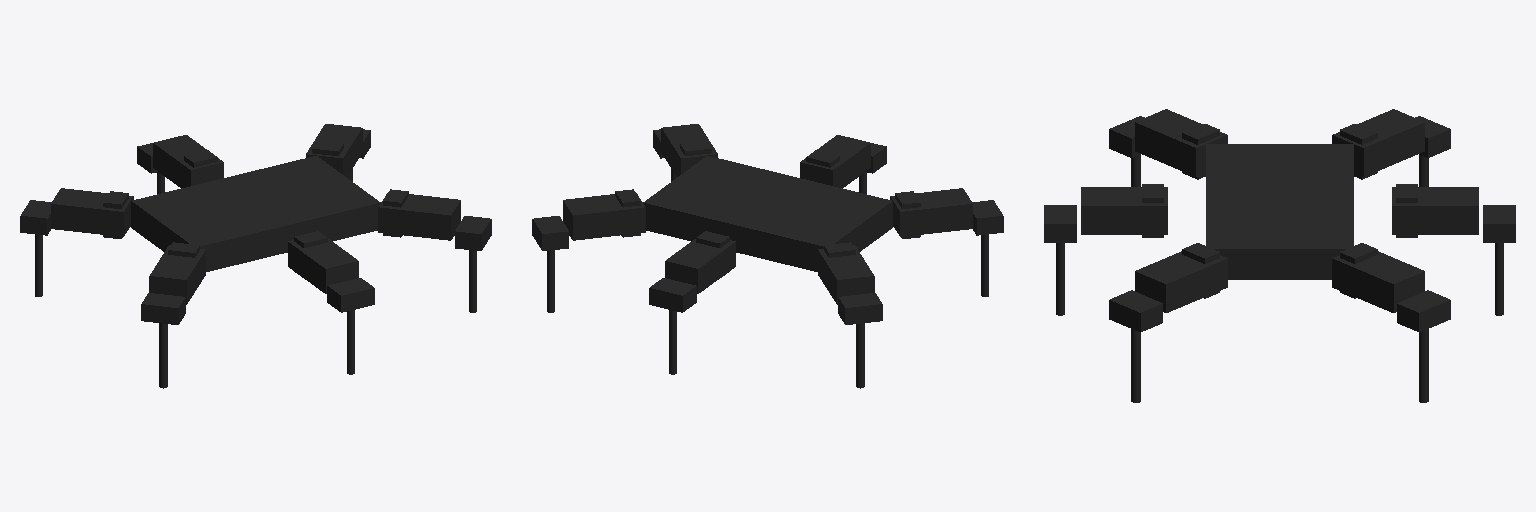
--- Facts derived from the render (not from the file) ---
Views: 3 orthographic renders of the robot side by side, from view 1: azimuth 30°, elevation 25°; view 2: azimuth 150°, elevation 25°; view 3: azimuth 270°, elevation 25°.
Robot: Simple_Hexapod — 37 links, 36 joints (18 revolute, 18 fixed); root link base_link; default pose: all joints at 0.
Visible links, largest first — view 1: MP_BODY, thigh_rf, thigh_lr, thigh_rm, thigh_lm, thigh_rr, thigh_lf, tibia_rm, tibia_rr, tibia_rf, tibia_lr, tibia_ext_rr; view 2: MP_BODY, thigh_rr, thigh_lf, thigh_rm, thigh_lm, thigh_lr, thigh_rf, tibia_lm, tibia_lr, tibia_lf, tibia_rr, tibia_ext_lr; view 3: MP_BODY, thigh_lm, thigh_lf, thigh_lr, thigh_rf, thigh_rm, thigh_rr, tibia_rf, tibia_lf, tibia_rm, tibia_lm, tibia_rr (+10 smaller).
Link boxes in pixels (x1,y1,x2,y2): MP_BODY: (131, 156, 380, 271); thigh_rf: (378, 193, 460, 240); thigh_lr: (51, 188, 133, 236); thigh_rm: (288, 239, 358, 293); thigh_lm: (153, 135, 223, 186); thigh_rr: (149, 245, 205, 304); thigh_lf: (306, 124, 362, 176); tibia_rm: (327, 278, 374, 312); tibia_rr: (141, 293, 185, 324); tibia_rf: (455, 216, 491, 250); tibia_lr: (20, 200, 51, 235); tibia_ext_rr: (159, 323, 167, 388); MP_BODY: (643, 156, 892, 271); thigh_rr: (890, 188, 972, 236); thigh_lf: (563, 193, 645, 240); thigh_rm: (800, 135, 870, 188); thigh_lm: (665, 240, 735, 293); thigh_lr: (818, 245, 874, 304); thigh_rf: (661, 124, 717, 175); tibia_lm: (649, 278, 696, 312); tibia_lr: (838, 293, 882, 324); tibia_lf: (532, 216, 568, 250); tibia_rr: (972, 200, 1003, 235); tibia_ext_lr: (856, 323, 864, 388); MP_BODY: (1206, 144, 1353, 279); thigh_lm: (1392, 187, 1478, 234); thigh_lf: (1332, 251, 1424, 312); thigh_lr: (1332, 109, 1424, 176); thigh_rf: (1135, 254, 1227, 312); thigh_rm: (1081, 187, 1167, 234); thigh_rr: (1135, 109, 1227, 176); tibia_rf: (1109, 290, 1162, 332); tibia_lf: (1397, 290, 1450, 332); tibia_rm: (1044, 205, 1076, 242); tibia_lm: (1483, 205, 1515, 242); tibia_rr: (1109, 116, 1144, 157).
Bounding box of the posed robot: 0.472 × 0.4763 × 0.137 m (x, y, z).
0 mesh visuals loaded from 1 distinct referenced files (none loaded); not drawn: 1 (reference not matched to a file when rendering).

URDF robot description (Simple_Hexapod):
<?xml version="1.0" ?>
<!-- =================================================================================== -->
<!-- |    This document was autogenerated by xacro from simple_hexapod.xacro           | -->
<!-- |    EDITING THIS FILE BY HAND IS NOT RECOMMENDED                                 | -->
<!-- =================================================================================== -->
<robot name="Simple_Hexapod" xmlns:xacro="http://www.ros.org/wiki/xacro">
  <!-- Size of square 'camera' box -->
  <link name="base_link"/>
  <joint name="j_simple_hexapod_attachment" type="fixed">
    <parent link="base_link"/>
    <child link="MP_BODY"/>
    <origin rpy="0 0 0" xyz="0 0 0"/>
  </joint>
  <link name="MP_BODY">
    <inertial>
      <origin xyz="0 0 0"/>
      <mass value="0.97559947"/>
      <inertia ixx="3.1081800" ixy="-0.25460189" ixz="2.0318174" iyy="6.3787776" iyz="0.16417863" izz="5.3316425"/>
    </inertial>
    <visual>
      <!--origin xyz="-0.0235 0 -0.03525" rpy="0 0 0" /-->
      <origin rpy="0 0 0" xyz="0 0 0"/>
      <geometry>
        <!--<box size="0.102 0.109 0.106" />-->
        <box size="0.25 0.15 0.035"/>
        <!--<mesh filename="package://simple_hexapod_description/meshes/body.STL"  scale="1 1 1"/>-->
      </geometry>
      <material name="Grey">
        <color rgba="0.20 0.20 0.20 1.0"/>
      </material>
      <!--<material name="Black">
            <color rgba="0 0 0 1.0"/>
          </material>-->
    </visual>
    <collision>
      <origin rpy="0 0 0" xyz="0 0 0"/>
      <geometry>
        <box size="0.25 0.15 0.035"/>
        <!--<mesh filename="package://simple_hexapod_description/meshes/body_coll.STL"  scale="1 1 1"/>-->
      </geometry>
    </collision>
  </link>
  <gazebo reference="MP_BODY">
    <material>Gazebo/Grey</material>
  </gazebo>
  <link name="c1_rf">
    <inertial>
      <origin rpy="0 0 0" xyz="0 -0.02633 0"/>
      <mass value="0.024357719"/>
      <inertia ixx="0.0051411124" ixy="-0.00057530255" ixz="-0.000024729049" iyy="0.0081915737" iyz="-0.000019223094" izz="0.0011379812"/>
    </inertial>
    <visual>
      <origin rpy="0 0 0" xyz="0 -0.0252 0"/>
      <geometry>
        <box size="0.045 0.022 0.0325"/>
        <!--<mesh filename="package://simple_hexapod_description/meshes/connect.STL"  scale="1 1 1"/>-->
      </geometry>
      <material name="Grey">
        <color rgba="0.20 0.20 0.20 1.0"/>
      </material>
      <!--<material name="Black">
        <color rgba="0 0 0 1.0"/>
      </material>-->
    </visual>
    <collision>
      <origin rpy="0 0 0" xyz="0 -0.02633 0"/>
      <geometry>
        <box size="0.045 0.022 0.0325"/>
        <!--<mesh filename="package://simple_hexapod_description/meshes/connect_coll.STL"  scale="1 1 1"/>-->
      </geometry>
    </collision>
  </link>
  <link name="c2_rf">
    <inertial>
      <origin rpy="0 0 0" xyz="0 -0.02633 0"/>
      <mass value="0.024357719"/>
      <inertia ixx="0.0051411124" ixy="-0.00057530255" ixz="-0.000024729049" iyy="0.0081915737" iyz="-0.000019223094" izz="0.0011379812"/>
    </inertial>
    <visual>
      <origin rpy="0 0 0" xyz="0 -0.0252 0"/>
      <geometry>
        <box size="0.045 0.022 0.0325"/>
        <!--<mesh filename="package://simple_hexapod_description/meshes/connect.STL"  scale="1 1 1"/>-->
      </geometry>
      <material name="Grey">
        <color rgba="0.20 0.20 0.20 1.0"/>
      </material>
      <!--<material name="Black">
        <color rgba="0 0 0 1.0"/>
      </material>-->
    </visual>
    <collision>
      <origin rpy="0 0 0" xyz="0 -0.02633 0"/>
      <geometry>
        <box size="0.045 0.022 0.0325"/>
        <!--<mesh filename="package://simple_hexapod_description/meshes/connect_coll.STL"  scale="1 1 1"/>-->
      </geometry>
    </collision>
  </link>
  <link name="thigh_rf">
    <inertial>
      <origin rpy="0 0 0" xyz="0 0 0"/>
      <mass value="0.024357719"/>
      <inertia ixx="0.0051411124" ixy="-0.00057530255" ixz="-0.000024729049" iyy="0.0081915737" iyz="-0.000019223094" izz="0.0011379812"/>
    </inertial>
    <visual>
      <origin rpy="0 0 0" xyz="0 0 0"/>
      <geometry>
        <box size="0.045 0.088 0.0325"/>
        <!--<mesh filename="package://simple_hexapod_description/meshes/thigh_l.STL"  scale="1 1 1"/>-->
      </geometry>
      <material name="Grey">
        <color rgba="0.20 0.20 0.20 1.0"/>
      </material>
      <!--<material name="Black">
        <color rgba="0 0 0 1.0"/>
      </material>-->
    </visual>
    <collision>
      <origin rpy="0 0 0" xyz="0 0 0"/>
      <geometry>
        <box size="0.045 0.088 0.0325"/>
        <!--<mesh filename="package://simple_hexapod_description/meshes/thigh_l_coll.STL"  scale="1 1 1"/>-->
      </geometry>
    </collision>
  </link>
  <link name="tibia_rf">
    <inertial>
      <origin rpy="0 0 0" xyz="0 0 0"/>
      <mass value="0.024357719"/>
      <inertia ixx="0.0051411124" ixy="-0.00057530255" ixz="-0.000024729049" iyy="0.0081915737" iyz="-0.000019223094" izz="0.0011379812"/>
    </inertial>
    <visual>
      <origin rpy="0 0 0" xyz="0 0 0"/>
      <geometry>
        <box size="0.045 0.022 0.0325"/>
        <!--<mesh filename="package://simple_hexapod_description/meshes/tibia_l.STL"  scale="1 1 1"/>-->
      </geometry>
      <material name="Grey">
        <color rgba="0.20 0.20 0.20 1.0"/>
      </material>
      <!--<material name="Black">
        <color rgba="0 0 0 1.0"/>
      </material>-->
    </visual>
    <collision>
      <origin rpy="0 0 0" xyz="0 0 0"/>
      <geometry>
        <box size="0.045 0.022 0.0325"/>
        <!--<mesh filename="package://simple_hexapod_description/meshes/tibia_l_coll.STL"  scale="1 1 1"/>-->
      </geometry>
    </collision>
  </link>
  <link name="tibia_ext_rf">
    <inertial>
      <origin rpy="0 0 0" xyz="0 0 0"/>
      <mass value="0.024357719"/>
      <inertia ixx="0.0051411124" ixy="-0.00057530255" ixz="-0.000024729049" iyy="0.0081915737" iyz="-0.000019223094" izz="0.0011379812"/>
    </inertial>
    <visual>
      <origin rpy="0 0 0" xyz="0 0 -0.05"/>
      <geometry>
        <cylinder length="0.1" radius="0.005"/>
        <!--<mesh filename="package://simple_hexapod_description/meshes/tibia_l.STL"  scale="1 1 1"/>-->
      </geometry>
      <material name="Grey">
        <color rgba="0.20 0.20 0.20 1.0"/>
      </material>
      <!--<material name="White">
        <color rgba="1 1 1 1.0"/>
      </material>-->
    </visual>
    <collision>
      <origin rpy="0 0 0" xyz="0 0 -0.05"/>
      <geometry>
        <cylinder length="0.1" radius="0.005"/>
        <!--<mesh filename="package://simple_hexapod_description/meshes/tibia_l_coll.STL"  scale="1 1 1"/>-->
      </geometry>
    </collision>
  </link>
  <joint name="j_c1_rf" type="revolute">
    <parent link="MP_BODY"/>
    <child link="c1_rf"/>
    <origin rpy="0 4.7123 0.7853981633974483" xyz="0.1248 -0.06164  0.001116"/>
    <axis xyz="1 0 0"/>
    <limit effort="2.8" lower="-2.6179939" upper="2.6179939" velocity="5.6548668"/>
  </joint>
  <joint name="j_c2_rf" type="fixed">
    <parent link="c1_rf"/>
    <child link="c2_rf"/>
    <origin rpy="0 1.5704 3.14159" xyz="0 -0.054 0"/>
  </joint>
  <joint name="j_thigh_rf" type="revolute">
    <parent link="c2_rf"/>
    <child link="thigh_rf"/>
    <origin rpy=" 0 3.14159 3.14159" xyz="0 0 0"/>
    <axis xyz="1 0 0"/>
    <limit effort="2.8" lower="-2.6179939" upper="2.6179939" velocity="5.6548668"/>
  </joint>
  <joint name="j_tibia_rf" type="revolute">
    <parent link="thigh_rf"/>
    <child link="tibia_rf"/>
    <origin rpy="-1.5707 0 3.14159" xyz="0 -0.0645 -0.0145"/>
    <axis xyz="1 0 0"/>
    <limit effort="2.8" lower="-2.6179939" upper="2.6179939" velocity="5.6548668"/>
  </joint>
  <joint name="j_tibia_ext_rf" type="fixed">
    <parent link="tibia_rf"/>
    <child link="tibia_ext_rf"/>
    <origin rpy="1.57075 0 0" xyz="0 0 0"/>
  </joint>
  <transmission name="t_c1_rf">
    <type>transmission_interface/SimpleTransmission</type>
    <joint name="j_c1_rf">
      <hardwareInterface>EffortJointInterface</hardwareInterface>
    </joint>
    <actuator name="m_c1_rf">
      <hardwareInterface>EffortJointInterface</hardwareInterface>
      <mechanicalReduction>1</mechanicalReduction>
    </actuator>
  </transmission>
  <transmission name="t_thigh_rf">
    <type>transmission_interface/SimpleTransmission</type>
    <joint name="j_thigh_rf">
      <hardwareInterface>EffortJointInterface</hardwareInterface>
    </joint>
    <actuator name="m_thigh_rf">
      <hardwareInterface>EffortJointInterface</hardwareInterface>
      <mechanicalReduction>1</mechanicalReduction>
    </actuator>
  </transmission>
  <transmission name="t_tibia_rf">
    <type>transmission_interface/SimpleTransmission</type>
    <joint name="j_tibia_rf">
      <hardwareInterface>EffortJointInterface</hardwareInterface>
    </joint>
    <actuator name="m_tibia_rf">
      <hardwareInterface>EffortJointInterface</hardwareInterface>
      <mechanicalReduction>1</mechanicalReduction>
    </actuator>
  </transmission>
  <gazebo reference="c1_rf">
    <material>Gazebo/Grey</material>
  </gazebo>
  <gazebo reference="c2_rf">
    <material>Gazebo/Grey</material>
  </gazebo>
  <gazebo reference="thigh_rf">
    <material>Gazebo/Grey</material>
  </gazebo>
  <gazebo reference="tibia_rf">
    <material>Gazebo/Grey</material>
  </gazebo>
  <link name="c1_rm">
    <inertial>
      <origin rpy="0 0 0" xyz="0 -0.02633 0"/>
      <mass value="0.024357719"/>
      <inertia ixx="0.0051411124" ixy="-0.00057530255" ixz="-0.000024729049" iyy="0.0081915737" iyz="-0.000019223094" izz="0.0011379812"/>
    </inertial>
    <visual>
      <origin rpy="0 0 0" xyz="0 -0.0252 0"/>
      <geometry>
        <box size="0.045 0.022 0.0325"/>
        <!--<mesh filename="package://simple_hexapod_description/meshes/connect.STL"  scale="1 1 1"/>-->
      </geometry>
      <material name="Grey">
        <color rgba="0.20 0.20 0.20 1.0"/>
      </material>
      <!--<material name="Black">
        <color rgba="0 0 0 1.0"/>
      </material>-->
    </visual>
    <collision>
      <origin rpy="0 0 0" xyz="0 -0.02633 0"/>
      <geometry>
        <box size="0.045 0.022 0.0325"/>
        <!--<mesh filename="package://simple_hexapod_description/meshes/connect_coll.STL"  scale="1 1 1"/>-->
      </geometry>
    </collision>
  </link>
  <link name="c2_rm">
    <inertial>
      <origin rpy="0 0 0" xyz="0 -0.02633 0"/>
      <mass value="0.024357719"/>
      <inertia ixx="0.0051411124" ixy="-0.00057530255" ixz="-0.000024729049" iyy="0.0081915737" iyz="-0.000019223094" izz="0.0011379812"/>
    </inertial>
    <visual>
      <origin rpy="0 0 0" xyz="0 -0.0252 0"/>
      <geometry>
        <box size="0.045 0.022 0.0325"/>
        <!--<mesh filename="package://simple_hexapod_description/meshes/connect.STL"  scale="1 1 1"/>-->
      </geometry>
      <material name="Grey">
        <color rgba="0.20 0.20 0.20 1.0"/>
      </material>
      <!--<material name="Black">
        <color rgba="0 0 0 1.0"/>
      </material>-->
    </visual>
    <collision>
      <origin rpy="0 0 0" xyz="0 -0.02633 0"/>
      <geometry>
        <box size="0.045 0.022 0.0325"/>
        <!--<mesh filename="package://simple_hexapod_description/meshes/connect_coll.STL"  scale="1 1 1"/>-->
      </geometry>
    </collision>
  </link>
  <link name="thigh_rm">
    <inertial>
      <origin rpy="0 0 0" xyz="0 0 0"/>
      <mass value="0.024357719"/>
      <inertia ixx="0.0051411124" ixy="-0.00057530255" ixz="-0.000024729049" iyy="0.0081915737" iyz="-0.000019223094" izz="0.0011379812"/>
    </inertial>
    <visual>
      <origin rpy="0 0 0" xyz="0 0 0"/>
      <geometry>
        <box size="0.045 0.088 0.0325"/>
        <!--<mesh filename="package://simple_hexapod_description/meshes/thigh_l.STL"  scale="1 1 1"/>-->
      </geometry>
      <material name="Grey">
        <color rgba="0.20 0.20 0.20 1.0"/>
      </material>
      <!--<material name="Black">
        <color rgba="0 0 0 1.0"/>
      </material>-->
    </visual>
    <collision>
      <origin rpy="0 0 0" xyz="0 0 0"/>
      <geometry>
        <box size="0.045 0.088 0.0325"/>
        <!--<mesh filename="package://simple_hexapod_description/meshes/thigh_l_coll.STL"  scale="1 1 1"/>-->
      </geometry>
    </collision>
  </link>
  <link name="tibia_rm">
    <inertial>
      <origin rpy="0 0 0" xyz="0 0 0"/>
      <mass value="0.024357719"/>
      <inertia ixx="0.0051411124" ixy="-0.00057530255" ixz="-0.000024729049" iyy="0.0081915737" iyz="-0.000019223094" izz="0.0011379812"/>
    </inertial>
    <visual>
      <origin rpy="0 0 0" xyz="0 0 0"/>
      <geometry>
        <box size="0.045 0.022 0.0325"/>
        <!--<mesh filename="package://simple_hexapod_description/meshes/tibia_l.STL"  scale="1 1 1"/>-->
      </geometry>
      <material name="Grey">
        <color rgba="0.20 0.20 0.20 1.0"/>
      </material>
      <!--<material name="Black">
        <color rgba="0 0 0 1.0"/>
      </material>-->
    </visual>
    <collision>
      <origin rpy="0 0 0" xyz="0 0 0"/>
      <geometry>
        <box size="0.045 0.022 0.0325"/>
        <!--<mesh filename="package://simple_hexapod_description/meshes/tibia_l_coll.STL"  scale="1 1 1"/>-->
      </geometry>
    </collision>
  </link>
  <link name="tibia_ext_rm">
    <inertial>
      <origin rpy="0 0 0" xyz="0 0 0"/>
      <mass value="0.024357719"/>
      <inertia ixx="0.0051411124" ixy="-0.00057530255" ixz="-0.000024729049" iyy="0.0081915737" iyz="-0.000019223094" izz="0.0011379812"/>
    </inertial>
    <visual>
      <origin rpy="0 0 0" xyz="0 0 -0.05"/>
      <geometry>
        <cylinder length="0.1" radius="0.005"/>
        <!--<mesh filename="package://simple_hexapod_description/meshes/tibia_l.STL"  scale="1 1 1"/>-->
      </geometry>
      <material name="Grey">
        <color rgba="0.20 0.20 0.20 1.0"/>
      </material>
      <!--<material name="White">
        <color rgba="1 1 1 1.0"/>
      </material>-->
    </visual>
    <collision>
      <origin rpy="0 0 0" xyz="0 0 -0.05"/>
      <geometry>
        <cylinder length="0.1" radius="0.005"/>
        <!--<mesh filename="package://simple_hexapod_description/meshes/tibia_l_coll.STL"  scale="1 1 1"/>-->
      </geometry>
    </collision>
  </link>
  <joint name="j_c1_rm" type="revolute">
    <parent link="MP_BODY"/>
    <child link="c1_rm"/>
    <origin rpy="0 4.7123 0" xyz="0 -0.1034  0.001116"/>
    <axis xyz="1 0 0"/>
    <limit effort="2.8" lower="-2.6179939" upper="2.6179939" velocity="5.6548668"/>
  </joint>
  <joint name="j_c2_rm" type="fixed">
    <parent link="c1_rm"/>
    <child link="c2_rm"/>
    <origin rpy="0 1.5704 3.14159" xyz="0 -0.054 0"/>
  </joint>
  <joint name="j_thigh_rm" type="revolute">
    <parent link="c2_rm"/>
    <child link="thigh_rm"/>
    <origin rpy=" 0 3.14159 3.14159" xyz="0 0 0"/>
    <axis xyz="1 0 0"/>
    <limit effort="2.8" lower="-2.6179939" upper="2.6179939" velocity="5.6548668"/>
  </joint>
  <joint name="j_tibia_rm" type="revolute">
    <parent link="thigh_rm"/>
    <child link="tibia_rm"/>
    <origin rpy="-1.5707 0 3.14159" xyz="0 -0.0645 -0.0145"/>
    <axis xyz="1 0 0"/>
    <limit effort="2.8" lower="-2.6179939" upper="2.6179939" velocity="5.6548668"/>
  </joint>
  <joint name="j_tibia_ext_rm" type="fixed">
    <parent link="tibia_rm"/>
    <child link="tibia_ext_rm"/>
    <origin rpy="1.57075 0 0" xyz="0 0 0"/>
  </joint>
  <transmission name="t_c1_rm">
    <type>transmission_interface/SimpleTransmission</type>
    <joint name="j_c1_rm">
      <hardwareInterface>EffortJointInterface</hardwareInterface>
    </joint>
    <actuator name="m_c1_rm">
      <hardwareInterface>EffortJointInterface</hardwareInterface>
      <mechanicalReduction>1</mechanicalReduction>
    </actuator>
  </transmission>
  <transmission name="t_thigh_rm">
    <type>transmission_interface/SimpleTransmission</type>
    <joint name="j_thigh_rm">
      <hardwareInterface>EffortJointInterface</hardwareInterface>
    </joint>
    <actuator name="m_thigh_rm">
      <hardwareInterface>EffortJointInterface</hardwareInterface>
      <mechanicalReduction>1</mechanicalReduction>
    </actuator>
  </transmission>
  <transmission name="t_tibia_rm">
    <type>transmission_interface/SimpleTransmission</type>
    <joint name="j_tibia_rm">
      <hardwareInterface>EffortJointInterface</hardwareInterface>
    </joint>
    <actuator name="m_tibia_rm">
      <hardwareInterface>EffortJointInterface</hardwareInterface>
      <mechanicalReduction>1</mechanicalReduction>
    </actuator>
  </transmission>
  <gazebo reference="c1_rm">
    <material>Gazebo/Grey</material>
  </gazebo>
  <gazebo reference="c2_rm">
    <material>Gazebo/Grey</material>
  </gazebo>
  <gazebo reference="thigh_rm">
    <material>Gazebo/Grey</material>
  </gazebo>
  <gazebo reference="tibia_rm">
    <material>Gazebo/Grey</material>
  </gazebo>
  <link name="c1_rr">
    <inertial>
      <origin rpy="0 0 0" xyz="0 -0.02633 0"/>
      <mass value="0.024357719"/>
      <inertia ixx="0.0051411124" ixy="-0.00057530255" ixz="-0.000024729049" iyy="0.0081915737" iyz="-0.000019223094" izz="0.0011379812"/>
    </inertial>
    <visual>
      <origin rpy="0 0 0" xyz="0 -0.0252 0"/>
      <geometry>
        <box size="0.045 0.022 0.0325"/>
        <!--<mesh filename="package://simple_hexapod_description/meshes/connect.STL"  scale="1 1 1"/>-->
      </geometry>
      <material name="Grey">
        <color rgba="0.20 0.20 0.20 1.0"/>
      </material>
      <!--<material name="Black">
        <color rgba="0 0 0 1.0"/>
      </material>-->
    </visual>
    <collision>
      <origin rpy="0 0 0" xyz="0 -0.02633 0"/>
      <geometry>
        <box size="0.045 0.022 0.0325"/>
        <!--<mesh filename="package://simple_hexapod_description/meshes/connect_coll.STL"  scale="1 1 1"/>-->
      </geometry>
    </collision>
  </link>
  <link name="c2_rr">
    <inertial>
      <origin rpy="0 0 0" xyz="0 -0.02633 0"/>
      <mass value="0.024357719"/>
      <inertia ixx="0.0051411124" ixy="-0.00057530255" ixz="-0.000024729049" iyy="0.0081915737" iyz="-0.000019223094" izz="0.0011379812"/>
    </inertial>
    <visual>
      <origin rpy="0 0 0" xyz="0 -0.0252 0"/>
      <geometry>
        <box size="0.045 0.022 0.0325"/>
        <!--<mesh filename="package://simple_hexapod_description/meshes/connect.STL"  scale="1 1 1"/>-->
      </geometry>
      <material name="Grey">
        <color rgba="0.20 0.20 0.20 1.0"/>
      </material>
      <!--<material name="Black">
        <color rgba="0 0 0 1.0"/>
      </material>-->
    </visual>
    <collision>
      <origin rpy="0 0 0" xyz="0 -0.02633 0"/>
      <geometry>
        <box size="0.045 0.022 0.0325"/>
        <!--<mesh filename="package://simple_hexapod_description/meshes/connect_coll.STL"  scale="1 1 1"/>-->
      </geometry>
    </collision>
  </link>
  <link name="thigh_rr">
    <inertial>
      <origin rpy="0 0 0" xyz="0 0 0"/>
      <mass value="0.024357719"/>
      <inertia ixx="0.0051411124" ixy="-0.00057530255" ixz="-0.000024729049" iyy="0.0081915737" iyz="-0.000019223094" izz="0.0011379812"/>
    </inertial>
    <visual>
      <origin rpy="0 0 0" xyz="0 0 0"/>
      <geometry>
        <box size="0.045 0.088 0.0325"/>
        <!--<mesh filename="package://simple_hexapod_description/meshes/thigh_l.STL"  scale="1 1 1"/>-->
      </geometry>
      <material name="Grey">
        <color rgba="0.20 0.20 0.20 1.0"/>
      </material>
      <!--<material name="Black">
        <color rgba="0 0 0 1.0"/>
      </material>-->
    </visual>
    <collision>
      <origin rpy="0 0 0" xyz="0 0 0"/>
      <geometry>
        <box size="0.045 0.088 0.0325"/>
        <!--<mesh filename="package://simple_hexapod_description/meshes/thigh_l_coll.STL"  scale="1 1 1"/>-->
      </geometry>
    </collision>
  </link>
  <link name="tibia_rr">
    <inertial>
      <origin rpy="0 0 0" xyz="0 0 0"/>
      <mass value="0.024357719"/>
      <inertia ixx="0.0051411124" ixy="-0.00057530255" ixz="-0.000024729049" iyy="0.0081915737" iyz="-0.000019223094" izz="0.0011379812"/>
    </inertial>
    <visual>
      <origin rpy="0 0 0" xyz="0 0 0"/>
      <geometry>
        <box size="0.045 0.022 0.0325"/>
        <!--<mesh filename="package://simple_hexapod_description/meshes/tibia_l.STL"  scale="1 1 1"/>-->
      </geometry>
      <material name="Grey">
        <color rgba="0.20 0.20 0.20 1.0"/>
      </material>
      <!--<material name="Black">
        <color rgba="0 0 0 1.0"/>
      </material>-->
    </visual>
    <collision>
      <origin rpy="0 0 0" xyz="0 0 0"/>
      <geometry>
        <box size="0.045 0.022 0.0325"/>
        <!--<mesh filename="package://simple_hexapod_description/meshes/tibia_l_coll.STL"  scale="1 1 1"/>-->
      </geometry>
    </collision>
  </link>
  <link name="tibia_ext_rr">
    <inertial>
      <origin rpy="0 0 0" xyz="0 0 0"/>
      <mass value="0.024357719"/>
      <inertia ixx="0.0051411124" ixy="-0.00057530255" ixz="-0.000024729049" iyy="0.0081915737" iyz="-0.000019223094" izz="0.0011379812"/>
    </inertial>
    <visual>
      <origin rpy="0 0 0" xyz="0 0 -0.05"/>
      <geometry>
        <cylinder length="0.1" radius="0.005"/>
        <!--<mesh filename="package://simple_hexapod_description/meshes/tibia_l.STL"  scale="1 1 1"/>-->
      </geometry>
      <material name="Grey">
        <color rgba="0.20 0.20 0.20 1.0"/>
      </material>
      <!--<material name="White">
        <color rgba="1 1 1 1.0"/>
      </material>-->
    </visual>
    <collision>
      <origin rpy="0 0 0" xyz="0 0 -0.05"/>
      <geometry>
        <cylinder length="0.1" radius="0.005"/>
        <!--<mesh filename="package://simple_hexapod_description/meshes/tibia_l_coll.STL"  scale="1 1 1"/>-->
      </geometry>
    </collision>
  </link>
  <joint name="j_c1_rr" type="revolute">
    <parent link="MP_BODY"/>
    <child link="c1_rr"/>
    <origin rpy="0 4.7123 -0.7853981633974483" xyz="-0.1248 -0.06164  0.001116"/>
    <axis xyz="1 0 0"/>
    <limit effort="2.8" lower="-2.6179939" upper="2.6179939" velocity="5.6548668"/>
  </joint>
  <joint name="j_c2_rr" type="fixed">
    <parent link="c1_rr"/>
    <child link="c2_rr"/>
    <origin rpy="0 1.5704 3.14159" xyz="0 -0.054 0"/>
  </joint>
  <joint name="j_thigh_rr" type="revolute">
    <parent link="c2_rr"/>
    <child link="thigh_rr"/>
    <origin rpy=" 0 3.14159 3.14159" xyz="0 0 0"/>
    <axis xyz="1 0 0"/>
    <limit effort="2.8" lower="-2.6179939" upper="2.6179939" velocity="5.6548668"/>
  </joint>
  <joint name="j_tibia_rr" type="revolute">
    <parent link="thigh_rr"/>
    <child link="tibia_rr"/>
    <origin rpy="-1.5707 0 3.14159" xyz="0 -0.0645 -0.0145"/>
    <axis xyz="1 0 0"/>
    <limit effort="2.8" lower="-2.6179939" upper="2.6179939" velocity="5.6548668"/>
  </joint>
  <joint name="j_tibia_ext_rr" type="fixed">
    <parent link="tibia_rr"/>
    <child link="tibia_ext_rr"/>
    <origin rpy="1.57075 0 0" xyz="0 0 0"/>
  </joint>
  <transmission name="t_c1_rr">
    <type>transmission_interface/SimpleTransmission</type>
    <joint name="j_c1_rr">
      <hardwareInterface>EffortJointInterface</hardwareInterface>
    </joint>
    <actuator name="m_c1_rr">
      <hardwareInterface>EffortJointInterface</hardwareInterface>
      <mechanicalReduction>1</mechanicalReduction>
    </actuator>
  </transmission>
  <transmission name="t_thigh_rr">
    <type>transmission_interface/SimpleTransmission</type>
    <joint name="j_thigh_rr">
      <hardwareInterface>EffortJointInterface</hardwareInterface>
    </joint>
    <actuator name="m_thigh_rr">
      <hardwareInterface>EffortJointInterface</hardwareInterface>
      <mechanicalReduction>1</mechanicalReduction>
    </actuator>
  </transmission>
  <transmission name="t_tibia_rr">
    <type>transmission_interface/SimpleTransmission</type>
    <joint name="j_tibia_rr">
      <hardwareInterface>EffortJointInterface</hardwareInterface>
    </joint>
    <actuator name="m_tibia_rr">
      <hardwareInterface>EffortJointInterface</hardwareInterface>
      <mechanicalReduction>1</mechanicalReduction>
    </actuator>
  </transmission>
  <gazebo reference="c1_rr">
    <material>Gazebo/Grey</material>
  </gazebo>
  <gazebo reference="c2_rr">
    <material>Gazebo/Grey</material>
  </gazebo>
  <gazebo reference="thigh_rr">
    <material>Gazebo/Grey</material>
  </gazebo>
  <gazebo reference="tibia_rr">
    <material>Gazebo/Grey</material>
  </gazebo>
  <link name="c1_lf">
    <inertial>
      <origin rpy="0 0 0" xyz="0 -0.02633 0"/>
      <mass value="0.024357719"/>
      <inertia ixx="0.0051411124" ixy="-0.00057530255" ixz="-0.000024729049" iyy="0.0081915737" iyz="-0.000019223094" izz="0.0011379812"/>
    </inertial>
    <visual>
      <origin rpy="0 0 0" xyz="0 -0.0252 0"/>
      <geometry>
        <box size="0.045 0.022 0.0325"/>
        <!--<mesh filename="package://simple_hexapod_description/meshes/connect.STL"  scale="1 1 1"/>-->
      </geometry>
      <material name="Grey">
        <color rgba="0.20 0.20 0.20 1.0"/>
      </material>
      <!--<material name="Black">
        <color rgba="0 0 0 1.0"/>
      </material>-->
    </visual>
    <collision>
      <origin rpy="0 0 0" xyz="0 -0.02633 0"/>
      <geometry>
        <box size="0.045 0.022 0.0325"/>
        <!--<mesh filename="package://simple_hexapod_description/meshes/connect_coll.STL"  scale="1 1 1"/>-->
      </geometry>
    </collision>
  </link>
  <link name="c2_lf">
    <inertial>
      <origin rpy="0 0 0" xyz="0 -0.02633 0"/>
      <mass value="0.024357719"/>
      <inertia ixx="0.0051411124" ixy="-0.00057530255" ixz="-0.000024729049" iyy="0.0081915737" iyz="-0.000019223094" izz="0.0011379812"/>
    </inertial>
    <visual>
      <origin rpy="0 0 0" xyz="0 -0.0252 0"/>
      <geometry>
        <box size="0.045 0.022 0.0325"/>
        <!--<mesh filename="package://simple_hexapod_description/meshes/connect.STL"  scale="1 1 1"/>-->
      </geometry>
      <material name="Grey">
        <color rgba="0.20 0.20 0.20 1.0"/>
      </material>
      <!--<material name="Black">
        <color rgba="0 0 0 1.0"/>
      </material>-->
    </visual>
    <collision>
      <origin rpy="0 0 0" xyz="0 -0.02633 0"/>
      <geometry>
        <box size="0.045 0.022 0.0325"/>
        <!--<mesh filename="package://simple_hexapod_description/meshes/connect_coll.STL"  scale="1 1 1"/>-->
      </geometry>
    </collision>
  </link>
  <link name="thigh_lf">
    <inertial>
      <origin rpy="0 0 0" xyz="0 0 0"/>
      <mass value="0.024357719"/>
      <inertia ixx="0.0051411124" ixy="-0.00057530255" ixz="-0.000024729049" iyy="0.0081915737" iyz="-0.000019223094" izz="0.0011379812"/>
    </inertial>
    <visual>
      <origin rpy="0 0 0" xyz="0 0 0"/>
      <geometry>
        <box size="0.045 0.088 0.0325"/>
        <!--<mesh filename="package://simple_hexapod_description/meshes/thigh_l.STL"  scale="1 1 1"/>-->
      </geometry>
      <material name="Grey">
        <color rgba="0.20 0.20 0.20 1.0"/>
      </material>
      <!--<material name="Black">
        <color rgba="0 0 0 1.0"/>
      </material>-->
    </visual>
    <collision>
      <origin rpy="0 0 0" xyz="0 0 0"/>
      <geometry>
        <box size="0.045 0.088 0.0325"/>
        <!--<mesh filename="package://simple_hexapod_description/meshes/thigh_l_coll.STL"  scale="1 1 1"/>-->
      </geometry>
    </collision>
  </link>
  <link name="tibia_lf">
    <inertial>
      <origin rpy="0 0 0" xyz="0 0 0"/>
      <mass value="0.024357719"/>
      <inertia ixx="0.0051411124" ixy="-0.00057530255" ixz="-0.000024729049" iyy="0.0081915737" iyz="-0.000019223094" izz="0.0011379812"/>
    </inertial>
    <visual>
      <origin rpy="0 0 0" xyz="0 0 0"/>
      <geometry>
        <box size="0.045 0.022 0.0325"/>
        <!--<mesh filename="package://simple_hexapod_description/meshes/tibia_l.STL"  scale="1 1 1"/>-->
      </geometry>
      <material name="Grey">
        <color rgba="0.20 0.20 0.20 1.0"/>
      </material>
      <!--<material name="Black">
        <color rgba="0 0 0 1.0"/>
      </material>-->
    </visual>
    <collision>
      <origin rpy="0 0 0" xyz="0 0 0"/>
      <geometry>
        <box size="0.045 0.022 0.0325"/>
        <!--<mesh filename="package://simple_hexapod_description/meshes/tibia_l_coll.STL"  scale="1 1 1"/>-->
      </geometry>
    </collision>
  </link>
  <link name="tibia_ext_lf">
    <inertial>
      <origin rpy="0 0 0" xyz="0 0 0"/>
      <mass value="0.024357719"/>
      <inertia ixx="0.0051411124" ixy="-0.00057530255" ixz="-0.000024729049" iyy="0.0081915737" iyz="-0.000019223094" izz="0.0011379812"/>
    </inertial>
    <visual>
      <origin rpy="0 0 0" xyz="0 0 -0.05"/>
      <geometry>
        <cylinder length="0.1" radius="0.005"/>
        <!--<mesh filename="package://simple_hexapod_description/meshes/tibia_l.STL"  scale="1 1 1"/>-->
      </geometry>
      <material name="Grey">
        <color rgba="0.20 0.20 0.20 1.0"/>
      </material>
      <!--<material name="White">
        <color rgba="1 1 1 1.0"/>
      </material>-->
    </visual>
    <collision>
      <origin rpy="0 0 0" xyz="0 0 -0.05"/>
      <geometry>
        <cylinder length="0.1" radius="0.005"/>
        <!--<mesh filename="package://simple_hexapod_description/meshes/tibia_l_coll.STL"  scale="1 1 1"/>-->
      </geometry>
    </collision>
  </link>
  <joint name="j_c1_lf" type="revolute">
    <parent link="MP_BODY"/>
    <child link="c1_lf"/>
    <origin rpy="0 4.7123 2.356194490192345" xyz="0.1248 0.06164  0.001116"/>
    <axis xyz="1 0 0"/>
    <limit effort="2.8" lower="-2.6179939" upper="2.6179939" velocity="5.6548668"/>
  </joint>
  <joint name="j_c2_lf" type="fixed">
    <parent link="c1_lf"/>
    <child link="c2_lf"/>
    <origin rpy="0 1.5704 3.14159" xyz="0 -0.054 0"/>
  </joint>
  <joint name="j_thigh_lf" type="revolute">
    <parent link="c2_lf"/>
    <child link="thigh_lf"/>
    <origin rpy=" 0 3.14159 3.14159" xyz="0 0 0"/>
    <axis xyz="1 0 0"/>
    <limit effort="2.8" lower="-2.6179939" upper="2.6179939" velocity="5.6548668"/>
  </joint>
  <joint name="j_tibia_lf" type="revolute">
    <parent link="thigh_lf"/>
    <child link="tibia_lf"/>
    <origin rpy="-1.5707 0 3.14159" xyz="0 -0.0645 -0.0145"/>
    <axis xyz="1 0 0"/>
    <limit effort="2.8" lower="-2.6179939" upper="2.6179939" velocity="5.6548668"/>
  </joint>
  <joint name="j_tibia_ext_lf" type="fixed">
    <parent link="tibia_lf"/>
    <child link="tibia_ext_lf"/>
    <origin rpy="1.57075 0 0" xyz="0 0 0"/>
  </joint>
  <transmission name="t_c1_lf">
    <type>transmission_interface/SimpleTransmission</type>
    <joint name="j_c1_lf">
      <hardwareInterface>EffortJointInterface</hardwareInterface>
    </joint>
    <actuator name="m_c1_lf">
      <hardwareInterface>EffortJointInterface</hardwareInterface>
      <mechanicalReduction>1</mechanicalReduction>
    </actuator>
  </transmission>
  <transmission name="t_thigh_lf">
    <type>transmission_interface/SimpleTransmission</type>
    <joint name="j_thigh_lf">
      <hardwareInterface>EffortJointInterface</hardwareInterface>
    </joint>
    <actuator name="m_thigh_lf">
      <hardwareInterface>EffortJointInterface</hardwareInterface>
      <mechanicalReduction>1</mechanicalReduction>
    </actuator>
  </transmission>
  <transmission name="t_tibia_lf">
    <type>transmission_interface/SimpleTransmission</type>
    <joint name="j_tibia_lf">
      <hardwareInterface>EffortJointInterface</hardwareInterface>
    </joint>
    <actuator name="m_tibia_lf">
      <hardwareInterface>EffortJointInterface</hardwareInterface>
      <mechanicalReduction>1</mechanicalReduction>
    </actuator>
  </transmission>
  <gazebo reference="c1_lf">
    <material>Gazebo/Grey</material>
  </gazebo>
  <gazebo reference="c2_lf">
    <material>Gazebo/Grey</material>
  </gazebo>
  <gazebo reference="thigh_lf">
    <material>Gazebo/Grey</material>
  </gazebo>
  <gazebo reference="tibia_lf">
    <material>Gazebo/Grey</material>
  </gazebo>
  <link name="c1_lm">
    <inertial>
      <origin rpy="0 0 0" xyz="0 -0.02633 0"/>
      <mass value="0.024357719"/>
      <inertia ixx="0.0051411124" ixy="-0.00057530255" ixz="-0.000024729049" iyy="0.0081915737" iyz="-0.000019223094" izz="0.0011379812"/>
    </inertial>
    <visual>
      <origin rpy="0 0 0" xyz="0 -0.0252 0"/>
      <geometry>
        <box size="0.045 0.022 0.0325"/>
        <!--<mesh filename="package://simple_hexapod_description/meshes/connect.STL"  scale="1 1 1"/>-->
      </geometry>
      <material name="Grey">
        <color rgba="0.20 0.20 0.20 1.0"/>
      </material>
      <!--<material name="Black">
        <color rgba="0 0 0 1.0"/>
      </material>-->
    </visual>
    <collision>
      <origin rpy="0 0 0" xyz="0 -0.02633 0"/>
      <geometry>
        <box size="0.045 0.022 0.0325"/>
        <!--<mesh filename="package://simple_hexapod_description/meshes/connect_coll.STL"  scale="1 1 1"/>-->
      </geometry>
    </collision>
  </link>
  <link name="c2_lm">
    <inertial>
      <origin rpy="0 0 0" xyz="0 -0.02633 0"/>
      <mass value="0.024357719"/>
      <inertia ixx="0.0051411124" ixy="-0.00057530255" ixz="-0.000024729049" iyy="0.0081915737" iyz="-0.000019223094" izz="0.0011379812"/>
    </inertial>
    <visual>
      <origin rpy="0 0 0" xyz="0 -0.0252 0"/>
      <geometry>
        <box size="0.045 0.022 0.0325"/>
        <!--<mesh filename="package://simple_hexapod_description/meshes/connect.STL"  scale="1 1 1"/>-->
      </geometry>
      <material name="Grey">
        <color rgba="0.20 0.20 0.20 1.0"/>
      </material>
      <!--<material name="Black">
        <color rgba="0 0 0 1.0"/>
      </material>-->
    </visual>
    <collision>
      <origin rpy="0 0 0" xyz="0 -0.02633 0"/>
      <geometry>
        <box size="0.045 0.022 0.0325"/>
        <!--<mesh filename="package://simple_hexapod_description/meshes/connect_coll.STL"  scale="1 1 1"/>-->
      </geometry>
    </collision>
  </link>
  <link name="thigh_lm">
    <inertial>
      <origin rpy="0 0 0" xyz="0 0 0"/>
      <mass value="0.024357719"/>
      <inertia ixx="0.0051411124" ixy="-0.00057530255" ixz="-0.000024729049" iyy="0.0081915737" iyz="-0.000019223094" izz="0.0011379812"/>
    </inertial>
    <visual>
      <origin rpy="0 0 0" xyz="0 0 0"/>
      <geometry>
        <box size="0.045 0.088 0.0325"/>
        <!--<mesh filename="package://simple_hexapod_description/meshes/thigh_l.STL"  scale="1 1 1"/>-->
      </geometry>
      <material name="Grey">
        <color rgba="0.20 0.20 0.20 1.0"/>
      </material>
      <!--<material name="Black">
        <color rgba="0 0 0 1.0"/>
      </material>-->
    </visual>
    <collision>
      <origin rpy="0 0 0" xyz="0 0 0"/>
      <geometry>
        <box size="0.045 0.088 0.0325"/>
        <!--<mesh filename="package://simple_hexapod_description/meshes/thigh_l_coll.STL"  scale="1 1 1"/>-->
      </geometry>
    </collision>
  </link>
  <link name="tibia_lm">
    <inertial>
      <origin rpy="0 0 0" xyz="0 0 0"/>
      <mass value="0.024357719"/>
      <inertia ixx="0.0051411124" ixy="-0.00057530255" ixz="-0.000024729049" iyy="0.0081915737" iyz="-0.000019223094" izz="0.0011379812"/>
    </inertial>
    <visual>
      <origin rpy="0 0 0" xyz="0 0 0"/>
      <geometry>
        <box size="0.045 0.022 0.0325"/>
        <!--<mesh filename="package://simple_hexapod_description/meshes/tibia_l.STL"  scale="1 1 1"/>-->
      </geometry>
      <material name="Grey">
        <color rgba="0.20 0.20 0.20 1.0"/>
      </material>
      <!--<material name="Black">
        <color rgba="0 0 0 1.0"/>
      </material>-->
    </visual>
    <collision>
      <origin rpy="0 0 0" xyz="0 0 0"/>
      <geometry>
        <box size="0.045 0.022 0.0325"/>
        <!--<mesh filename="package://simple_hexapod_description/meshes/tibia_l_coll.STL"  scale="1 1 1"/>-->
      </geometry>
    </collision>
  </link>
  <link name="tibia_ext_lm">
    <inertial>
      <origin rpy="0 0 0" xyz="0 0 0"/>
      <mass value="0.024357719"/>
      <inertia ixx="0.0051411124" ixy="-0.00057530255" ixz="-0.000024729049" iyy="0.0081915737" iyz="-0.000019223094" izz="0.0011379812"/>
    </inertial>
    <visual>
      <origin rpy="0 0 0" xyz="0 0 -0.05"/>
      <geometry>
        <cylinder length="0.1" radius="0.005"/>
        <!--<mesh filename="package://simple_hexapod_description/meshes/tibia_l.STL"  scale="1 1 1"/>-->
      </geometry>
      <material name="Grey">
        <color rgba="0.20 0.20 0.20 1.0"/>
      </material>
      <!--<material name="White">
        <color rgba="1 1 1 1.0"/>
      </material>-->
    </visual>
    <collision>
      <origin rpy="0 0 0" xyz="0 0 -0.05"/>
      <geometry>
        <cylinder length="0.1" radius="0.005"/>
        <!--<mesh filename="package://simple_hexapod_description/meshes/tibia_l_coll.STL"  scale="1 1 1"/>-->
      </geometry>
    </collision>
  </link>
  <joint name="j_c1_lm" type="revolute">
    <parent link="MP_BODY"/>
    <child link="c1_lm"/>
    <origin rpy="0 4.7123 3.14159" xyz="0 0.1034  0.001116"/>
    <axis xyz="1 0 0"/>
    <limit effort="2.8" lower="-2.6179939" upper="2.6179939" velocity="5.6548668"/>
  </joint>
  <joint name="j_c2_lm" type="fixed">
    <parent link="c1_lm"/>
    <child link="c2_lm"/>
    <origin rpy="0 1.5704 3.14159" xyz="0 -0.054 0"/>
  </joint>
  <joint name="j_thigh_lm" type="revolute">
    <parent link="c2_lm"/>
    <child link="thigh_lm"/>
    <origin rpy=" 0 3.14159 3.14159" xyz="0 0 0"/>
    <axis xyz="1 0 0"/>
    <limit effort="2.8" lower="-2.6179939" upper="2.6179939" velocity="5.6548668"/>
  </joint>
  <joint name="j_tibia_lm" type="revolute">
    <parent link="thigh_lm"/>
    <child link="tibia_lm"/>
    <origin rpy="-1.5707 0 3.14159" xyz="0 -0.0645 -0.0145"/>
    <axis xyz="1 0 0"/>
    <limit effort="2.8" lower="-2.6179939" upper="2.6179939" velocity="5.6548668"/>
  </joint>
  <joint name="j_tibia_ext_lm" type="fixed">
    <parent link="tibia_lm"/>
    <child link="tibia_ext_lm"/>
    <origin rpy="1.57075 0 0" xyz="0 0 0"/>
  </joint>
  <transmission name="t_c1_lm">
    <type>transmission_interface/SimpleTransmission</type>
    <joint name="j_c1_lm">
      <hardwareInterface>EffortJointInterface</hardwareInterface>
    </joint>
    <actuator name="m_c1_lm">
      <hardwareInterface>EffortJointInterface</hardwareInterface>
      <mechanicalReduction>1</mechanicalReduction>
    </actuator>
  </transmission>
  <transmission name="t_thigh_lm">
    <type>transmission_interface/SimpleTransmission</type>
    <joint name="j_thigh_lm">
      <hardwareInterface>EffortJointInterface</hardwareInterface>
    </joint>
    <actuator name="m_thigh_lm">
      <hardwareInterface>EffortJointInterface</hardwareInterface>
      <mechanicalReduction>1</mechanicalReduction>
    </actuator>
  </transmission>
  <transmission name="t_tibia_lm">
    <type>transmission_interface/SimpleTransmission</type>
    <joint name="j_tibia_lm">
      <hardwareInterface>EffortJointInterface</hardwareInterface>
    </joint>
    <actuator name="m_tibia_lm">
      <hardwareInterface>EffortJointInterface</hardwareInterface>
      <mechanicalReduction>1</mechanicalReduction>
    </actuator>
  </transmission>
  <gazebo reference="c1_lm">
    <material>Gazebo/Grey</material>
  </gazebo>
  <gazebo reference="c2_lm">
    <material>Gazebo/Grey</material>
  </gazebo>
  <gazebo reference="thigh_lm">
    <material>Gazebo/Grey</material>
  </gazebo>
  <gazebo reference="tibia_lm">
    <material>Gazebo/Grey</material>
  </gazebo>
  <link name="c1_lr">
    <inertial>
      <origin rpy="0 0 0" xyz="0 -0.02633 0"/>
      <mass value="0.024357719"/>
      <inertia ixx="0.0051411124" ixy="-0.00057530255" ixz="-0.000024729049" iyy="0.0081915737" iyz="-0.000019223094" izz="0.0011379812"/>
    </inertial>
    <visual>
      <origin rpy="0 0 0" xyz="0 -0.0252 0"/>
      <geometry>
        <box size="0.045 0.022 0.0325"/>
        <!--<mesh filename="package://simple_hexapod_description/meshes/connect.STL"  scale="1 1 1"/>-->
      </geometry>
      <material name="Grey">
        <color rgba="0.20 0.20 0.20 1.0"/>
      </material>
      <!--<material name="Black">
        <color rgba="0 0 0 1.0"/>
      </material>-->
    </visual>
    <collision>
      <origin rpy="0 0 0" xyz="0 -0.02633 0"/>
      <geometry>
        <box size="0.045 0.022 0.0325"/>
        <!--<mesh filename="package://simple_hexapod_description/meshes/connect_coll.STL"  scale="1 1 1"/>-->
      </geometry>
    </collision>
  </link>
  <link name="c2_lr">
    <inertial>
      <origin rpy="0 0 0" xyz="0 -0.02633 0"/>
      <mass value="0.024357719"/>
      <inertia ixx="0.0051411124" ixy="-0.00057530255" ixz="-0.000024729049" iyy="0.0081915737" iyz="-0.000019223094" izz="0.0011379812"/>
    </inertial>
    <visual>
      <origin rpy="0 0 0" xyz="0 -0.0252 0"/>
      <geometry>
        <box size="0.045 0.022 0.0325"/>
        <!--<mesh filename="package://simple_hexapod_description/meshes/connect.STL"  scale="1 1 1"/>-->
      </geometry>
      <material name="Grey">
        <color rgba="0.20 0.20 0.20 1.0"/>
      </material>
      <!--<material name="Black">
        <color rgba="0 0 0 1.0"/>
      </material>-->
    </visual>
    <collision>
      <origin rpy="0 0 0" xyz="0 -0.02633 0"/>
      <geometry>
        <box size="0.045 0.022 0.0325"/>
        <!--<mesh filename="package://simple_hexapod_description/meshes/connect_coll.STL"  scale="1 1 1"/>-->
      </geometry>
    </collision>
  </link>
  <link name="thigh_lr">
    <inertial>
      <origin rpy="0 0 0" xyz="0 0 0"/>
      <mass value="0.024357719"/>
      <inertia ixx="0.0051411124" ixy="-0.00057530255" ixz="-0.000024729049" iyy="0.0081915737" iyz="-0.000019223094" izz="0.0011379812"/>
    </inertial>
    <visual>
      <origin rpy="0 0 0" xyz="0 0 0"/>
      <geometry>
        <box size="0.045 0.088 0.0325"/>
        <!--<mesh filename="package://simple_hexapod_description/meshes/thigh_l.STL"  scale="1 1 1"/>-->
      </geometry>
      <material name="Grey">
        <color rgba="0.20 0.20 0.20 1.0"/>
      </material>
      <!--<material name="Black">
        <color rgba="0 0 0 1.0"/>
      </material>-->
    </visual>
    <collision>
      <origin rpy="0 0 0" xyz="0 0 0"/>
      <geometry>
        <box size="0.045 0.088 0.0325"/>
        <!--<mesh filename="package://simple_hexapod_description/meshes/thigh_l_coll.STL"  scale="1 1 1"/>-->
      </geometry>
    </collision>
  </link>
  <link name="tibia_lr">
    <inertial>
      <origin rpy="0 0 0" xyz="0 0 0"/>
      <mass value="0.024357719"/>
      <inertia ixx="0.0051411124" ixy="-0.00057530255" ixz="-0.000024729049" iyy="0.0081915737" iyz="-0.000019223094" izz="0.0011379812"/>
    </inertial>
    <visual>
      <origin rpy="0 0 0" xyz="0 0 0"/>
      <geometry>
        <box size="0.045 0.022 0.0325"/>
        <!--<mesh filename="package://simple_hexapod_description/meshes/tibia_l.STL"  scale="1 1 1"/>-->
      </geometry>
      <material name="Grey">
        <color rgba="0.20 0.20 0.20 1.0"/>
      </material>
      <!--<material name="Black">
        <color rgba="0 0 0 1.0"/>
      </material>-->
    </visual>
    <collision>
      <origin rpy="0 0 0" xyz="0 0 0"/>
      <geometry>
        <box size="0.045 0.022 0.0325"/>
        <!--<mesh filename="package://simple_hexapod_description/meshes/tibia_l_coll.STL"  scale="1 1 1"/>-->
      </geometry>
    </collision>
  </link>
  <link name="tibia_ext_lr">
    <inertial>
      <origin rpy="0 0 0" xyz="0 0 0"/>
      <mass value="0.024357719"/>
      <inertia ixx="0.0051411124" ixy="-0.00057530255" ixz="-0.000024729049" iyy="0.0081915737" iyz="-0.000019223094" izz="0.0011379812"/>
    </inertial>
    <visual>
      <origin rpy="0 0 0" xyz="0 0 -0.05"/>
      <geometry>
        <cylinder length="0.1" radius="0.005"/>
        <!--<mesh filename="package://simple_hexapod_description/meshes/tibia_l.STL"  scale="1 1 1"/>-->
      </geometry>
      <material name="Grey">
        <color rgba="0.20 0.20 0.20 1.0"/>
      </material>
      <!--<material name="White">
        <color rgba="1 1 1 1.0"/>
      </material>-->
    </visual>
    <collision>
      <origin rpy="0 0 0" xyz="0 0 -0.05"/>
      <geometry>
        <cylinder length="0.1" radius="0.005"/>
        <!--<mesh filename="package://simple_hexapod_description/meshes/tibia_l_coll.STL"  scale="1 1 1"/>-->
      </geometry>
    </collision>
  </link>
  <joint name="j_c1_lr" type="revolute">
    <parent link="MP_BODY"/>
    <child link="c1_lr"/>
    <origin rpy="0 4.7123 3.9269908169872414" xyz="-0.1248 0.06164  0.001116"/>
    <axis xyz="1 0 0"/>
    <limit effort="2.8" lower="-2.6179939" upper="2.6179939" velocity="5.6548668"/>
  </joint>
  <joint name="j_c2_lr" type="fixed">
    <parent link="c1_lr"/>
    <child link="c2_lr"/>
    <origin rpy="0 1.5704 3.14159" xyz="0 -0.054 0"/>
  </joint>
  <joint name="j_thigh_lr" type="revolute">
    <parent link="c2_lr"/>
    <child link="thigh_lr"/>
    <origin rpy=" 0 3.14159 3.14159" xyz="0 0 0"/>
    <axis xyz="1 0 0"/>
    <limit effort="2.8" lower="-2.6179939" upper="2.6179939" velocity="5.6548668"/>
  </joint>
  <joint name="j_tibia_lr" type="revolute">
    <parent link="thigh_lr"/>
    <child link="tibia_lr"/>
    <origin rpy="-1.5707 0 3.14159" xyz="0 -0.0645 -0.0145"/>
    <axis xyz="1 0 0"/>
    <limit effort="2.8" lower="-2.6179939" upper="2.6179939" velocity="5.6548668"/>
  </joint>
  <joint name="j_tibia_ext_lr" type="fixed">
    <parent link="tibia_lr"/>
    <child link="tibia_ext_lr"/>
    <origin rpy="1.57075 0 0" xyz="0 0 0"/>
  </joint>
  <transmission name="t_c1_lr">
    <type>transmission_interface/SimpleTransmission</type>
    <joint name="j_c1_lr">
      <hardwareInterface>EffortJointInterface</hardwareInterface>
    </joint>
    <actuator name="m_c1_lr">
      <hardwareInterface>EffortJointInterface</hardwareInterface>
      <mechanicalReduction>1</mechanicalReduction>
    </actuator>
  </transmission>
  <transmission name="t_thigh_lr">
    <type>transmission_interface/SimpleTransmission</type>
    <joint name="j_thigh_lr">
      <hardwareInterface>EffortJointInterface</hardwareInterface>
    </joint>
    <actuator name="m_thigh_lr">
      <hardwareInterface>EffortJointInterface</hardwareInterface>
      <mechanicalReduction>1</mechanicalReduction>
    </actuator>
  </transmission>
  <transmission name="t_tibia_lr">
    <type>transmission_interface/SimpleTransmission</type>
    <joint name="j_tibia_lr">
      <hardwareInterface>EffortJointInterface</hardwareInterface>
    </joint>
    <actuator name="m_tibia_lr">
      <hardwareInterface>EffortJointInterface</hardwareInterface>
      <mechanicalReduction>1</mechanicalReduction>
    </actuator>
  </transmission>
  <gazebo reference="c1_lr">
    <material>Gazebo/Grey</material>
  </gazebo>
  <gazebo reference="c2_lr">
    <material>Gazebo/Grey</material>
  </gazebo>
  <gazebo reference="thigh_lr">
    <material>Gazebo/Grey</material>
  </gazebo>
  <gazebo reference="tibia_lr">
    <material>Gazebo/Grey</material>
  </gazebo>
  <!--<xacro:camera parent="base_link">
        <origin xyz="0 0 1" rpy="0 0 0" />
    </xacro:camera>-->
  <joint name="depth_camera_joint" type="fixed">
    <origin rpy="0 0 0" xyz="0.125 0 0.04"/>
    <parent link="base_link"/>
    <child link="depth_camera_link"/>
  </joint>
  <link name="depth_camera_link">
    <inertial>
      <mass value="0.200"/>
      <origin rpy="0 0 0" xyz="0 0 0"/>
      <inertia ixx="5.8083e-4" ixy="0" ixz="0" iyy="3.0833e-5" iyz="0" izz="5.9083e-4"/>
    </inertial>
    <visual>
      <origin rpy="0 0 0" xyz="0 0 0"/>
      <geometry>
        <mesh filename="package://hector_sensors_description/meshes/asus_camera/asus_camera_simple.dae"/>
      </geometry>
    </visual>
    <collision>
      <origin rpy="0 0 0" xyz="0 0 0"/>
      <geometry>
        <box size="0.035 0.185 0.025"/>
      </geometry>
    </collision>
  </link>
  <joint name="depth_camera_depth_joint" type="fixed">
    <origin rpy="0 0 0" xyz="0.0 0.049 0.0"/>
    <parent link="depth_camera_link"/>
    <child link="depth_camera_depth_frame"/>
  </joint>
  <link name="depth_camera_depth_frame"/>
  <joint name="depth_camera_depth_optical_joint" type="fixed">
    <origin rpy="-1.57079632679 0.0 -1.57079632679" xyz="0 0 0"/>
    <parent link="depth_camera_depth_frame"/>
    <child link="depth_camera_depth_optical_frame"/>
  </joint>
  <link name="depth_camera_depth_optical_frame"/>
  <joint name="depth_camera_rgb_joint" type="fixed">
    <origin rpy="0 0 0" xyz="0.0 0.022 0.0"/>
    <parent link="depth_camera_link"/>
    <child link="depth_camera_rgb_frame"/>
  </joint>
  <link name="depth_camera_rgb_frame"/>
  <joint name="depth_camera_rgb_optical_joint" type="fixed">
    <origin rpy="-1.57079632679 0.0 -1.57079632679" xyz="0 0 0"/>
    <parent link="depth_camera_rgb_frame"/>
    <child link="depth_camera_rgb_optical_frame"/>
  </joint>
  <link name="depth_camera_rgb_optical_frame"/>
  <!-- ASUS Xtion PRO camera for simulation -->
  <gazebo reference="depth_camera_depth_frame">
    <sensor name="depth_camera" type="depth">
      <update_rate>20</update_rate>
      <camera>
        <horizontal_fov>1.09606677025</horizontal_fov>
        <image>
          <format>R8G8B8</format>
          <width>640</width>
          <height>480</height>
        </image>
        <clip>
          <near>0.05</near>
          <far>9</far>
        </clip>
      </camera>
      <plugin filename="libgazebo_ros_openni_kinect.so" name="depth_camera_camera_controller">
        <alwaysOn>true</alwaysOn>
        <updateRate>20</updateRate>
        <imageTopicName>depth_camera/rgb/image_raw</imageTopicName>
        <cameraInfoTopicName>depth_camera/rgb/camera_info</cameraInfoTopicName>
        <depthImageTopicName>depth_camera/depth/image_raw</depthImageTopicName>
        <depthImageCameraInfoTopicName>depth_camera/depth/camera_info</depthImageCameraInfoTopicName>
        <pointCloudTopicName>depth_camera/depth/points</pointCloudTopicName>
        <frameName>depth_camera_depth_optical_frame</frameName>
        <distortion_k1>0.0</distortion_k1>
        <distortion_k2>0.0</distortion_k2>
        <distortion_k3>0.0</distortion_k3>
        <distortion_t1>0.0</distortion_t1>
        <distortion_t2>0.0</distortion_t2>
      </plugin>
    </sensor>
  </gazebo>
  <gazebo>
    <plugin filename="libgazebo_ros_control.so" name="gazebo_ros_control">
      <robotNamespace>/simple_hexapod</robotNamespace>
    </plugin>
  </gazebo>
</robot>
